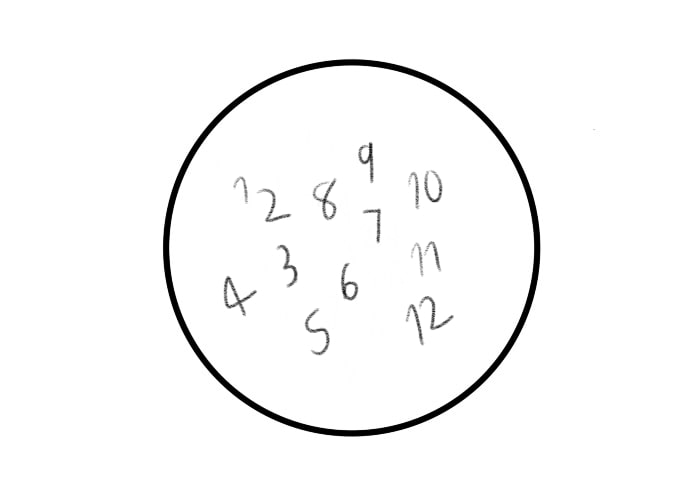eight: (312, 176, 338, 223)
eleven: (406, 235, 445, 276)
five: (303, 307, 332, 357)
four: (218, 273, 257, 319)
nine: (357, 139, 380, 185)
one: (231, 173, 250, 204)
seven: (363, 204, 386, 245)
six: (339, 258, 360, 302)
ten: (406, 170, 444, 210)
three: (274, 239, 300, 289)
twelve: (405, 292, 456, 351)
two: (256, 182, 290, 226)
